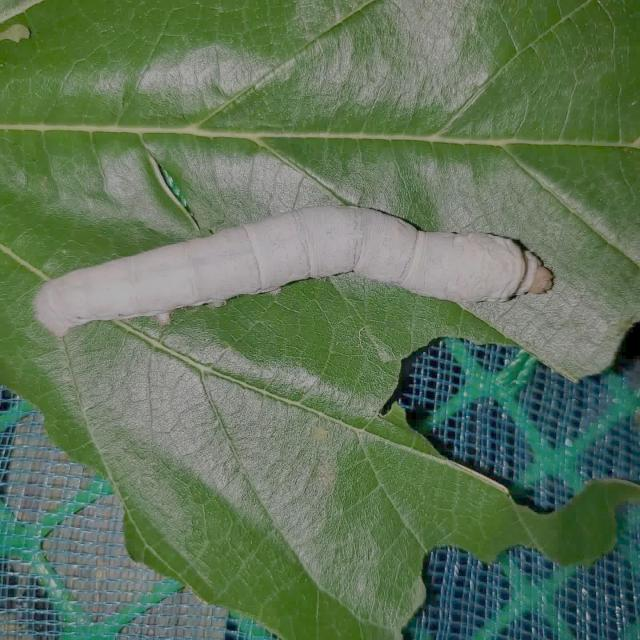Healthy: (24, 190, 570, 337)
